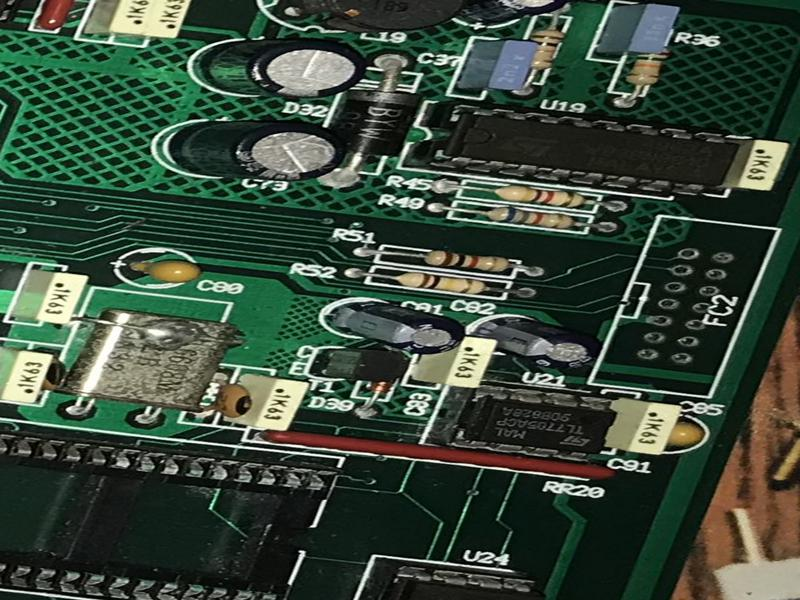Capacitor: (168, 118, 347, 183), (194, 36, 368, 99), (468, 316, 604, 376), (329, 301, 468, 354)
Diode: (321, 83, 432, 170), (363, 366, 399, 398)
Resistor: (387, 245, 516, 277), (471, 203, 581, 233), (482, 182, 590, 212), (612, 38, 672, 89), (513, 26, 567, 82), (389, 270, 492, 296)
